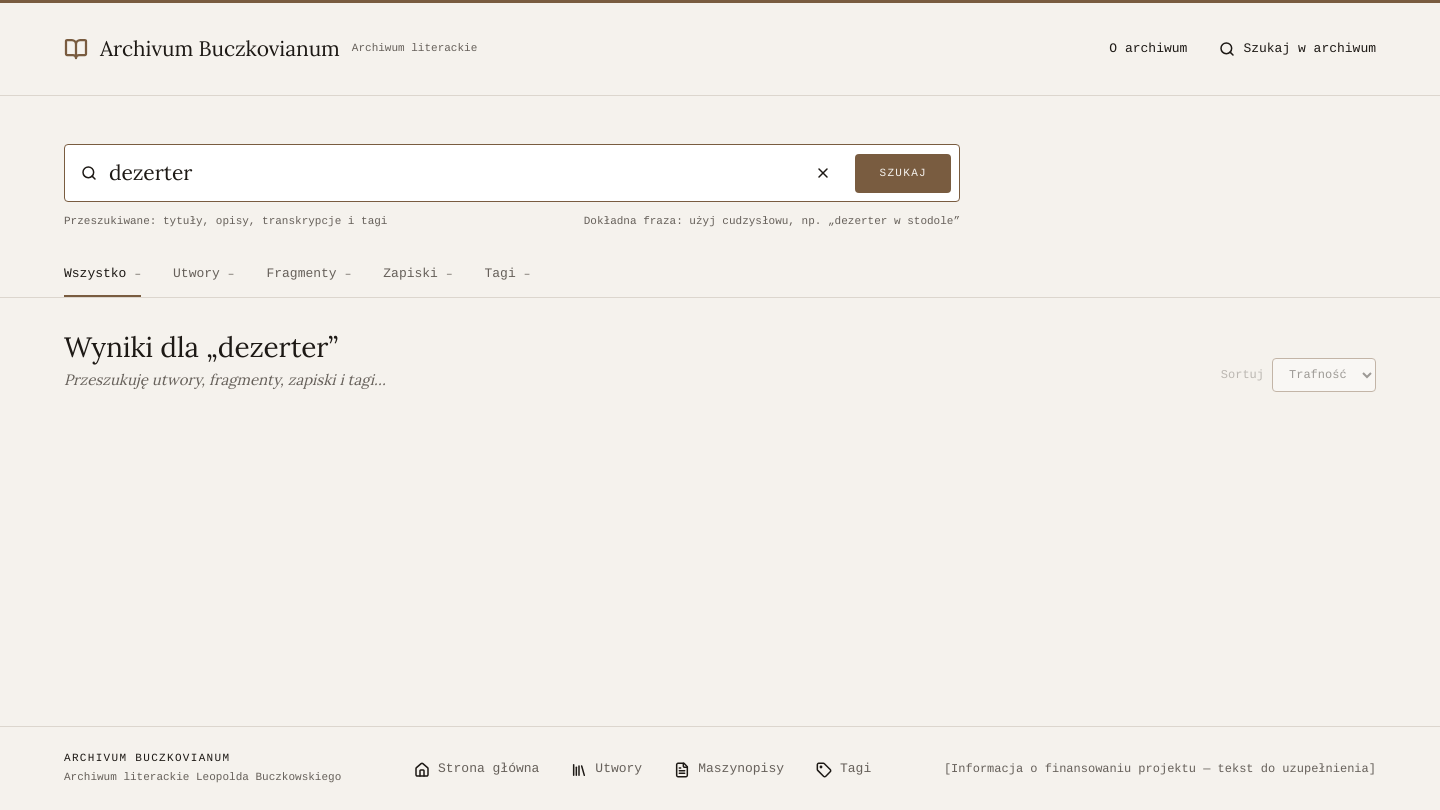
Scenario: SearchPage › US-RA-14 AC1: 'Wyczyść' empties the field and keeps the focus in it
Step 1. Click the button named "Wyczyść" → (824, 173), box [804, 153, 844, 193]
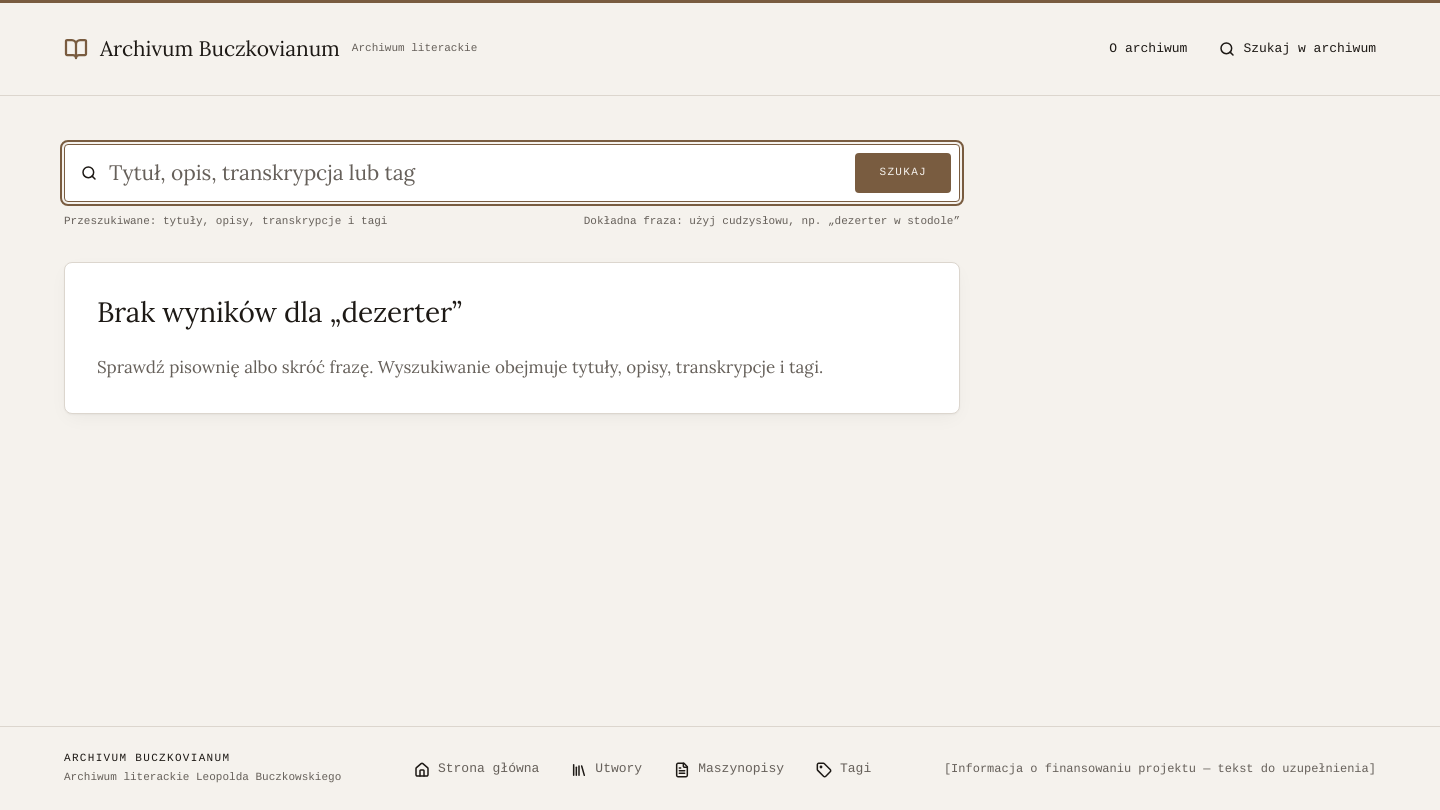
Expected: the dropdown named "Szukaj w archiwum" is empty, [109, 159, 844, 187]
Expected: the button "Wyczyść" is gone
